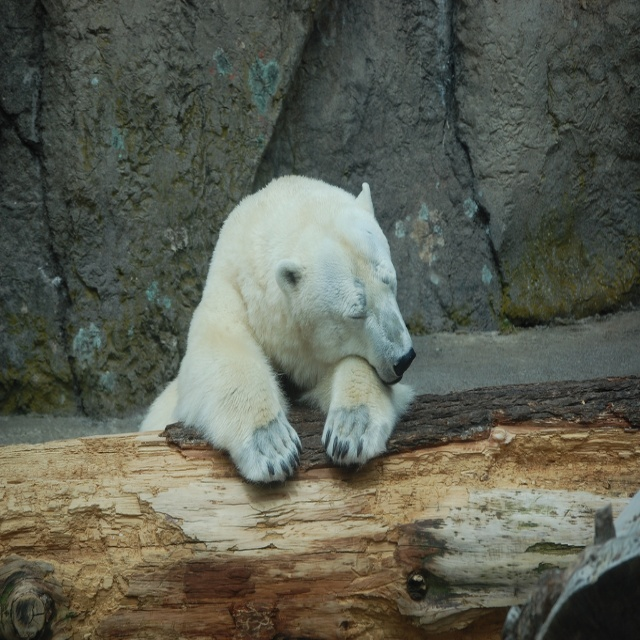Polar bear: (135, 173, 418, 483)
